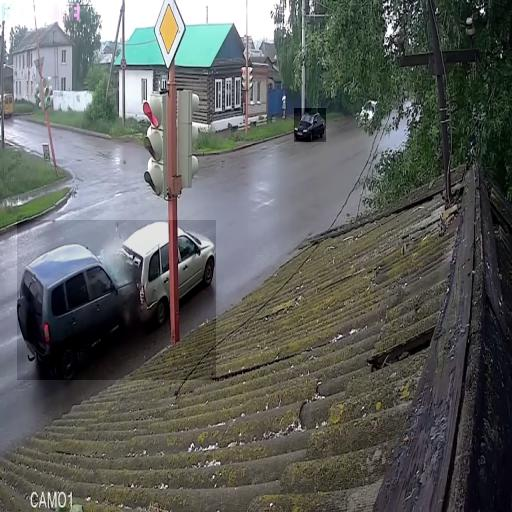小汽车: (294, 108, 326, 142)
小汽车撞小汽车: (17, 220, 216, 380)
